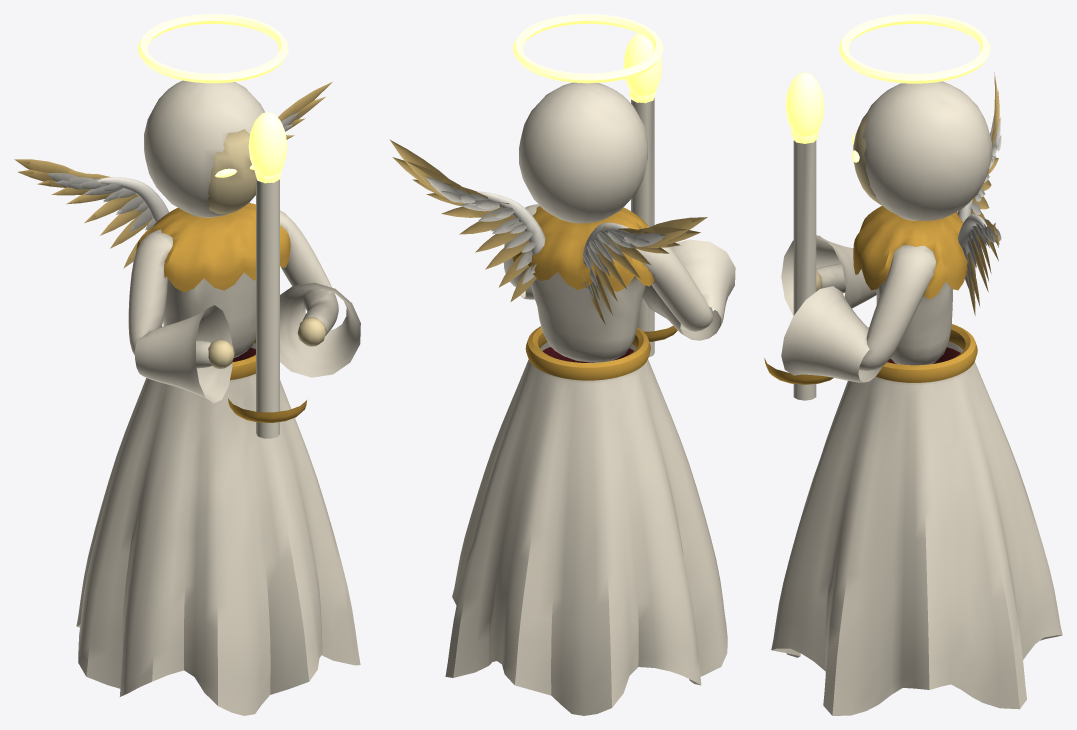
File: icon_acolyte.glb
3 views of the same model, side by side, from view 1: azimuth 30°, elevation 25°; view 2: azimuth 150°, elevation 25°; view 3: azimuth 270°, elevation 25° (orthographic).
Visible parts, largest first — view 1: body, wing_L_a, spin_y_halo, wing_R_a; view 2: body, wing_R_a, wing_L_a, spin_y_halo; view 3: body, spin_y_halo, wing_R_a, wing_L_a.
Boxes of the visible parts, bbox=[...] form: body: bbox=[76, 80, 360, 715]; wing_L_a: bbox=[14, 159, 169, 268]; spin_y_halo: bbox=[138, 14, 288, 83]; wing_R_a: bbox=[278, 82, 332, 139]; body: bbox=[445, 33, 735, 715]; wing_R_a: bbox=[389, 139, 545, 301]; wing_L_a: bbox=[582, 217, 707, 324]; spin_y_halo: bbox=[513, 14, 663, 83]; body: bbox=[764, 72, 1062, 715]; spin_y_halo: bbox=[839, 14, 990, 83]; wing_R_a: bbox=[958, 214, 1001, 315]; wing_L_a: bbox=[958, 72, 1001, 222].
Bounding box in the file's own units: 1.05 × 1.93 × 0.8428.
